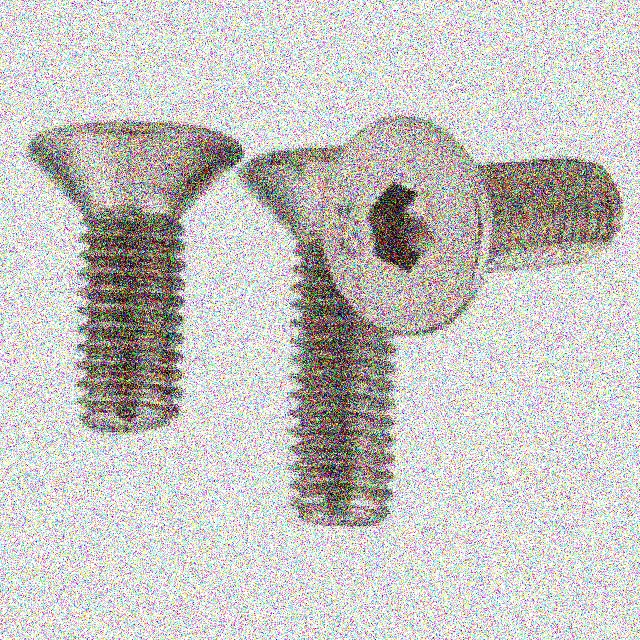allen: (320, 112, 490, 340)
